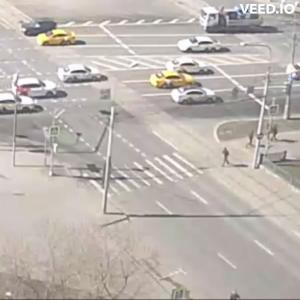car: (201, 8, 265, 35), (1, 93, 48, 117), (57, 64, 107, 86), (173, 87, 225, 107), (15, 78, 61, 100), (150, 70, 197, 89), (179, 37, 227, 54), (40, 30, 83, 48), (22, 22, 58, 39)
